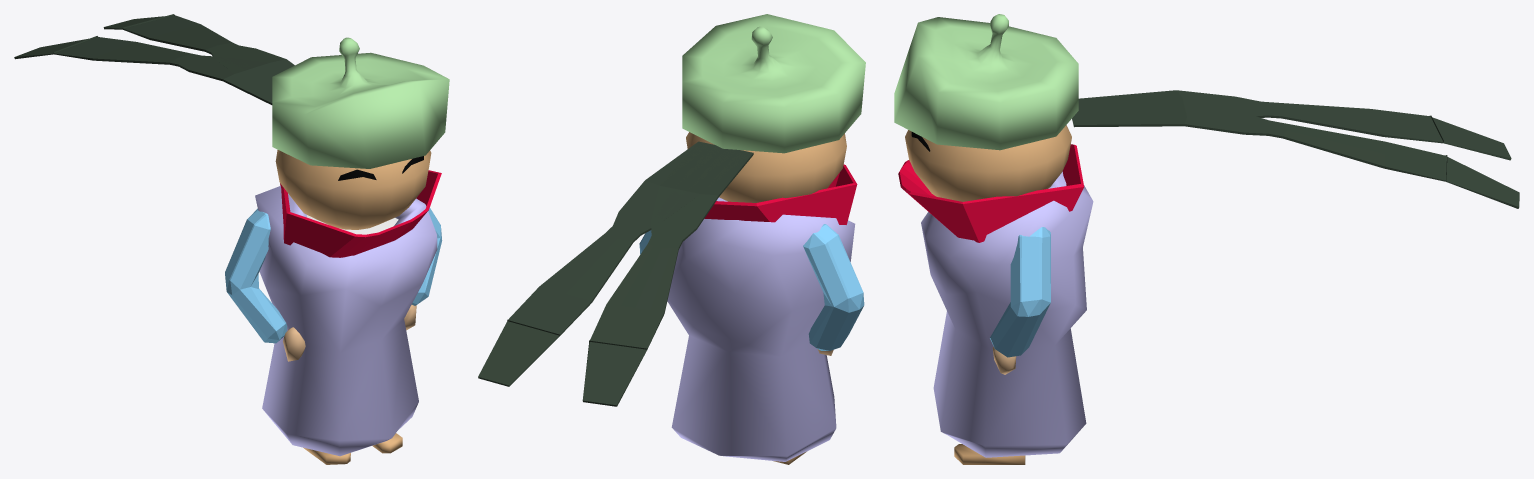
The model's file is chief lydia 2.fbx.
3 views of the same model, side by side, from view 1: azimuth 30°, elevation 25°; view 2: azimuth 150°, elevation 25°; view 3: azimuth 270°, elevation 25° (orthographic). The views are drawn at different scales.
Visible parts, largest first — view 1: Circle.013, Circle.015, Cube.040; view 2: Circle.013, Circle.015, Cube.040; view 3: Circle.013, Circle.015, Cube.040.
Boxes of the visible parts, x1,y1,x2,y2 form: Circle.013: (255, 37, 449, 464); Circle.015: (14, 14, 294, 104); Cube.040: (225, 207, 442, 343); Circle.013: (667, 14, 865, 464); Circle.015: (478, 141, 753, 406); Cube.040: (639, 224, 864, 350); Circle.013: (894, 14, 1093, 464); Circle.015: (1072, 90, 1519, 208); Cube.040: (990, 217, 1050, 357).
Size of the model in its own units: 190 by 346 by 456.
